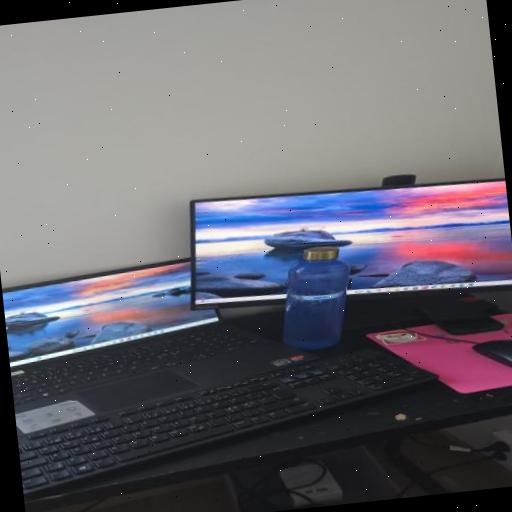phone: (413, 296, 512, 351)
